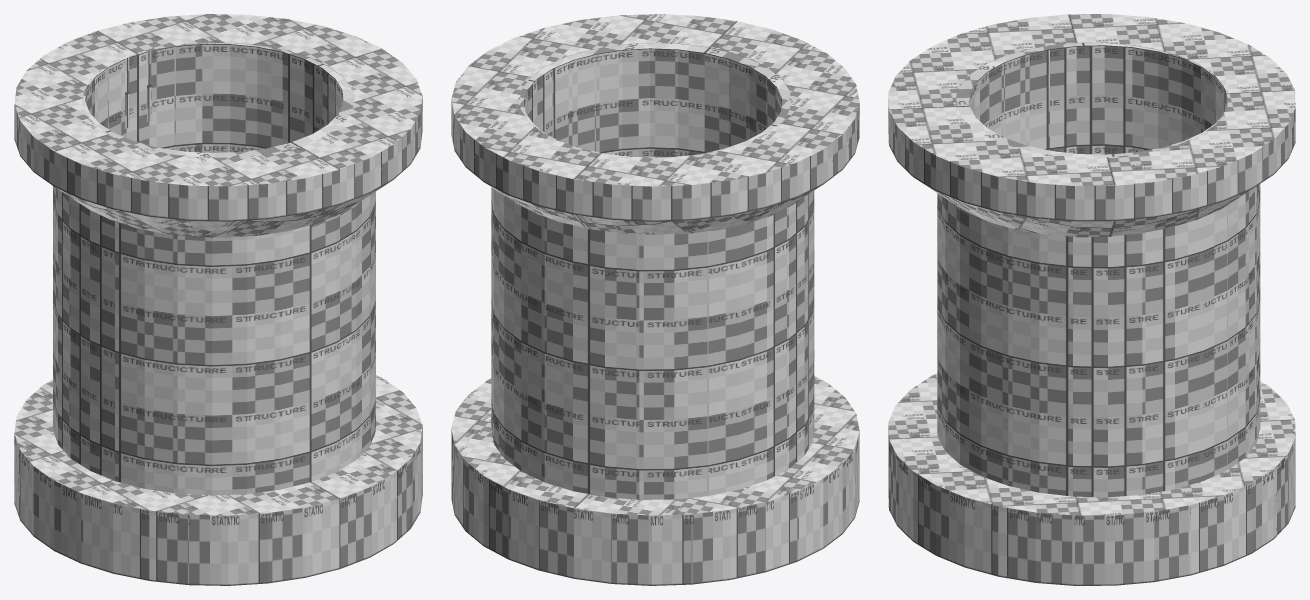
File: Entryway Pipe.fbx
3 views of the same model, side by side, from view 1: azimuth 30°, elevation 25°; view 2: azimuth 150°, elevation 25°; view 3: azimuth 270°, elevation 25° (orthographic).
Parts seen in each view (by area): view 1: Entryway_Pipe, Pipe, Pipe__1_; view 2: Entryway_Pipe, Pipe, Pipe__1_; view 3: Entryway_Pipe, Pipe, Pipe__1_.
Boxes of the visible parts, x1,y1,x2,y2 form: Entryway_Pipe: (53,43,375,495); Pipe: (14,14,422,237); Pipe__1_: (14,375,422,585); Entryway_Pipe: (491,43,814,499); Pipe: (451,14,859,234); Pipe__1_: (451,376,859,585); Entryway_Pipe: (937,43,1260,497); Pipe: (888,14,1295,237); Pipe__1_: (888,373,1295,585).
Size of the model in its own units: 459 by 497 by 459.
